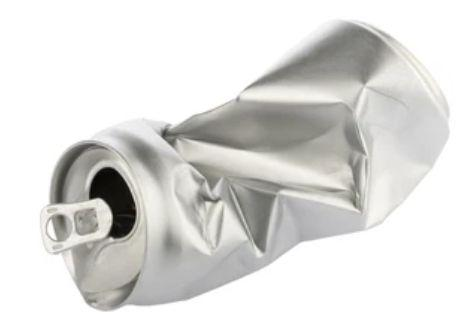metal: (39, 17, 451, 311)
